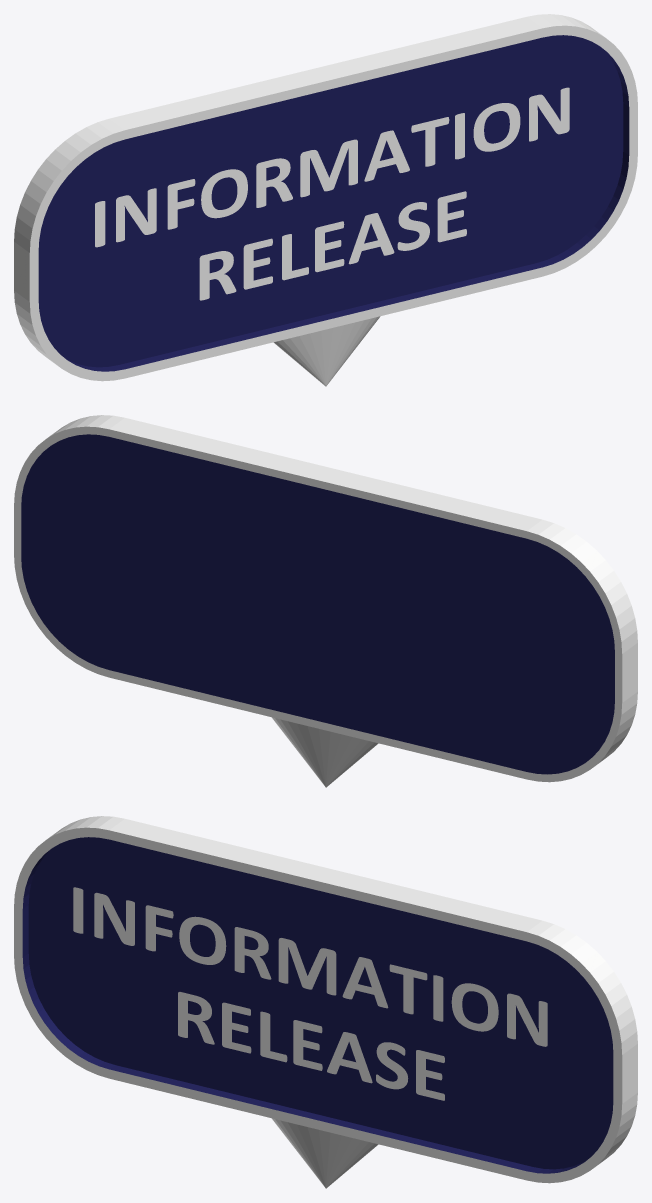
The model's file is informationReleaseHoverd.glb.
3 views of the same model, one above another, from view 1: azimuth 30°, elevation 25°; view 2: azimuth 150°, elevation 25°; view 3: azimuth 330°, elevation 25° (orthographic).
Visible parts, largest first — view 1: 立方体, 文本, 立方体.001, 立方体.002, 立方体.004; view 2: 立方体, 立方体.003, 立方体.002, 立方体.004; view 3: 立方体, 文本, 立方体.001, 立方体.002, 立方体.004.
Boxes of the visible parts, bbox=[...] form: 立方体: bbox=[38, 35, 629, 371]; 文本: bbox=[95, 87, 569, 300]; 立方体.001: bbox=[29, 25, 637, 381]; 立方体.002: bbox=[14, 14, 603, 366]; 立方体.004: bbox=[273, 316, 380, 386]; 立方体: bbox=[21, 434, 614, 774]; 立方体.003: bbox=[14, 426, 622, 782]; 立方体.002: bbox=[48, 415, 637, 767]; 立方体.004: bbox=[271, 717, 378, 787]; 立方体: bbox=[22, 837, 613, 1173]; 文本: bbox=[73, 887, 547, 1100]; 立方体.001: bbox=[14, 827, 622, 1183]; 立方体.002: bbox=[48, 816, 637, 1168]; 立方体.004: bbox=[271, 1118, 378, 1188].
Size of the model in its own units: 5.13 by 2.52 by 0.2745.
